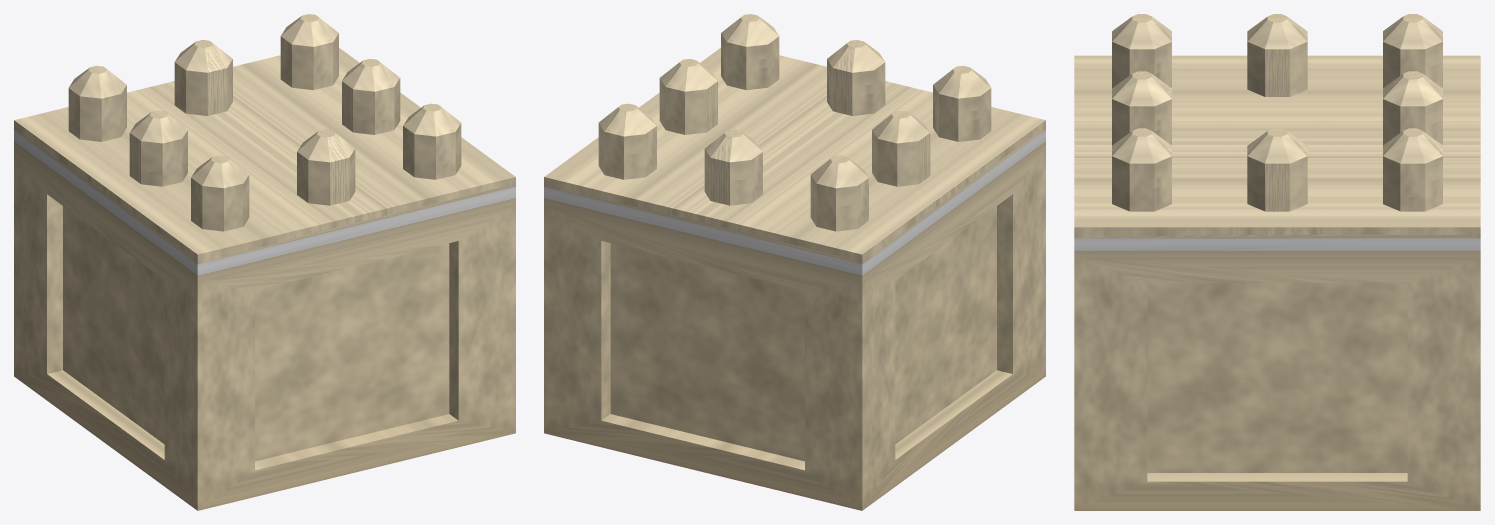
The model's file is wall_pilaster.glb.
3 renders of one model, left to right at view 1: azimuth 30°, elevation 25°; view 2: azimuth 150°, elevation 25°; view 3: azimuth 270°, elevation 25°, orthographic. The views are drawn at different scales.
Visible parts, largest first — view 1: wall; view 2: wall; view 3: wall.
Boxes of the visible parts, left/top/right/bottom form: wall: left=14, top=14, right=515, bottom=510; wall: left=544, top=14, right=1045, bottom=510; wall: left=1074, top=14, right=1480, bottom=510.
Bounding box in the file's own units: 1 × 0.95 × 1.
Materials: 1 (1 with a texture image).
